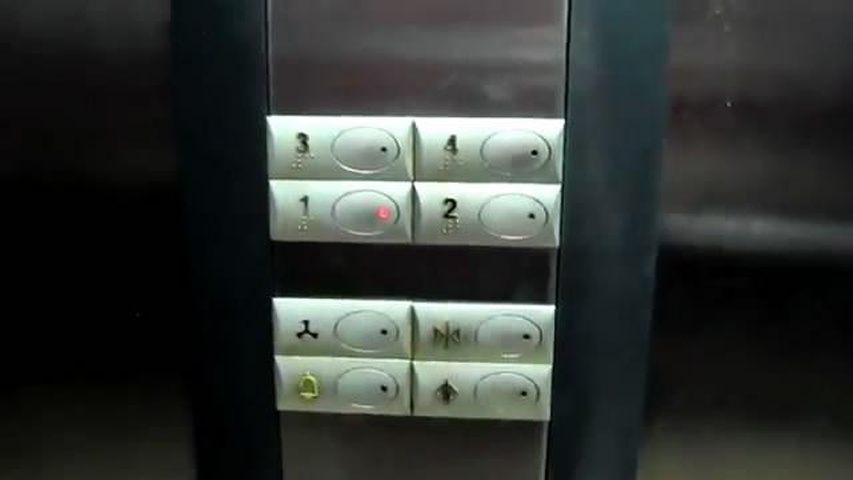1: (263, 176, 418, 248)
2: (410, 178, 563, 251)
3: (261, 110, 418, 185)
4: (411, 110, 568, 185)
alarm: (267, 351, 415, 419)
close: (404, 297, 557, 369)
fan: (268, 292, 416, 362)
open: (406, 354, 556, 425)
